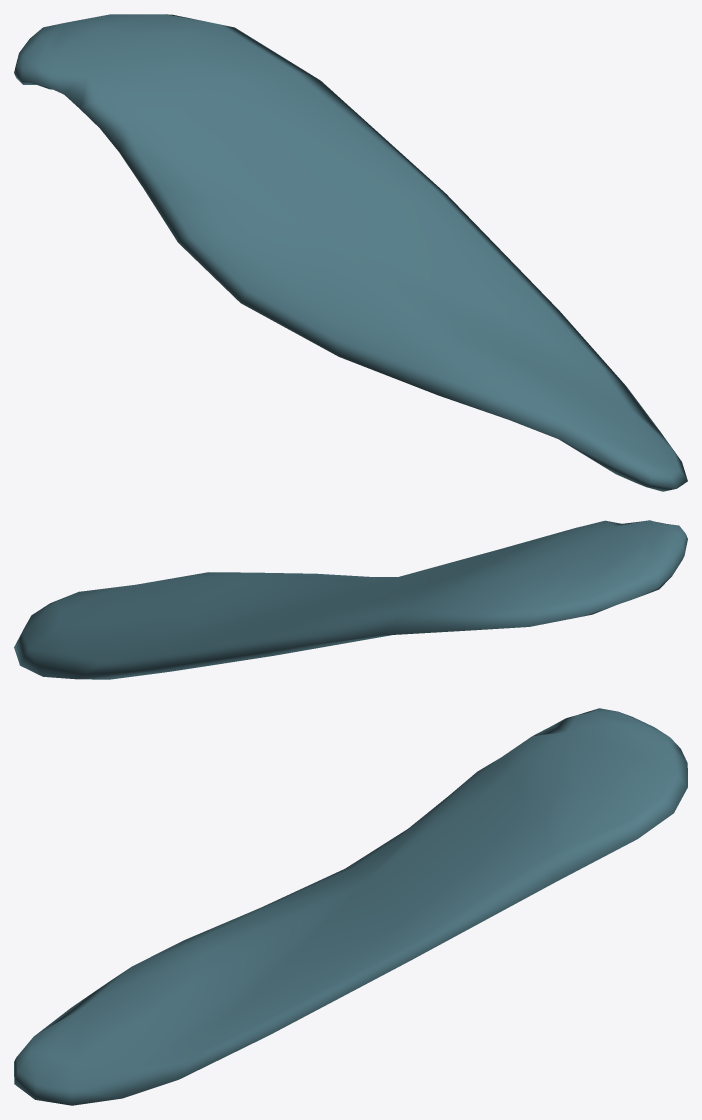
Rendered from Extensor_hallucis_longus_on_prox._phal._of_1st_f._of_foot.r_Gen.glb.
The picture shows the model from 3 angles, top to bottom: view 1: azimuth 30°, elevation 25°; view 2: azimuth 210°, elevation 25°; view 3: azimuth 270°, elevation 25°; orthographic projection. The views are drawn at different scales.
Parts seen in each view (by area): view 1: Extensor_hallucis_longus_on_prox._phal._of_1st_f._of_foot.r_; view 2: Extensor_hallucis_longus_on_prox._phal._of_1st_f._of_foot.r_; view 3: Extensor_hallucis_longus_on_prox._phal._of_1st_f._of_foot.r_.
Boxes of the visible parts, left/top/right/bottom form: Extensor_hallucis_longus_on_prox._phal._of_1st_f._of_foot.r_: left=14, top=14, right=687, bottom=491; Extensor_hallucis_longus_on_prox._phal._of_1st_f._of_foot.r_: left=14, top=520, right=687, bottom=679; Extensor_hallucis_longus_on_prox._phal._of_1st_f._of_foot.r_: left=14, top=708, right=687, bottom=1105.
Bounding box in the file's own units: 0.0076 × 0.00528 × 0.0132.
